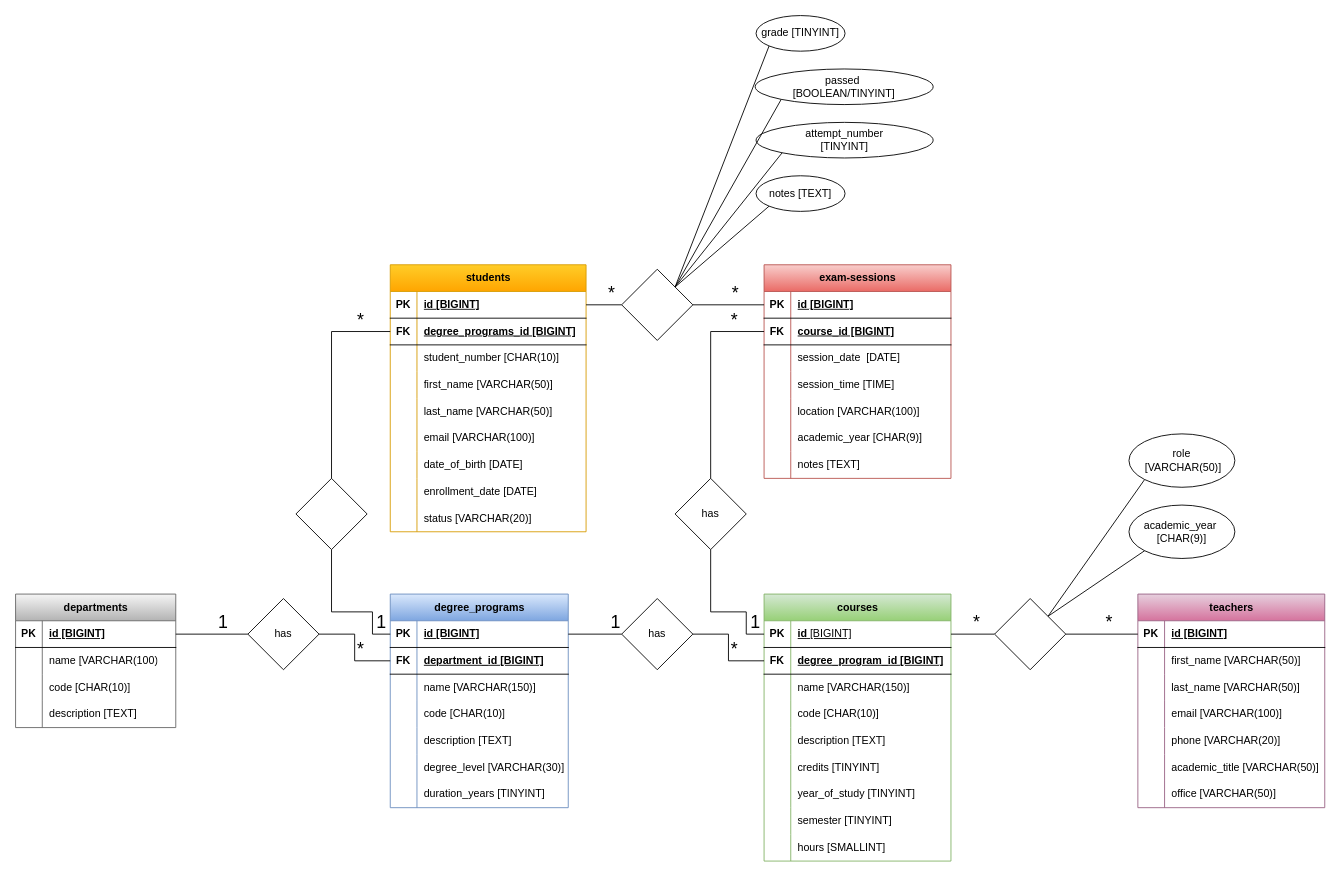
Image size: 1340x877. Some labels were removed from this diagram. Here are the shapes that lost their labels. From the top down, the centre of each, then its label:
point (657, 304): registers for
point (331, 513): enrolled in
point (1030, 634): teaches
